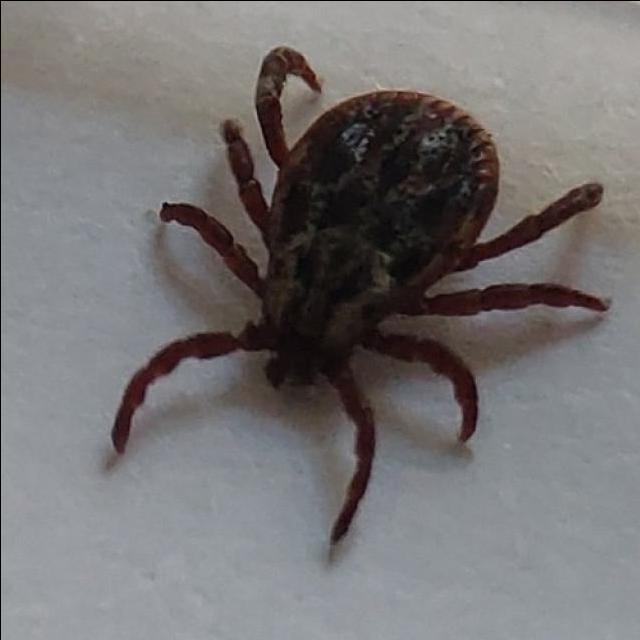Dermacentor Reticulatus-M: (108, 46, 608, 548)
